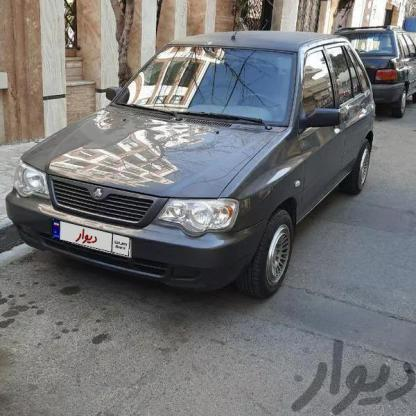Car: (1, 32, 385, 288), (334, 25, 416, 112)
